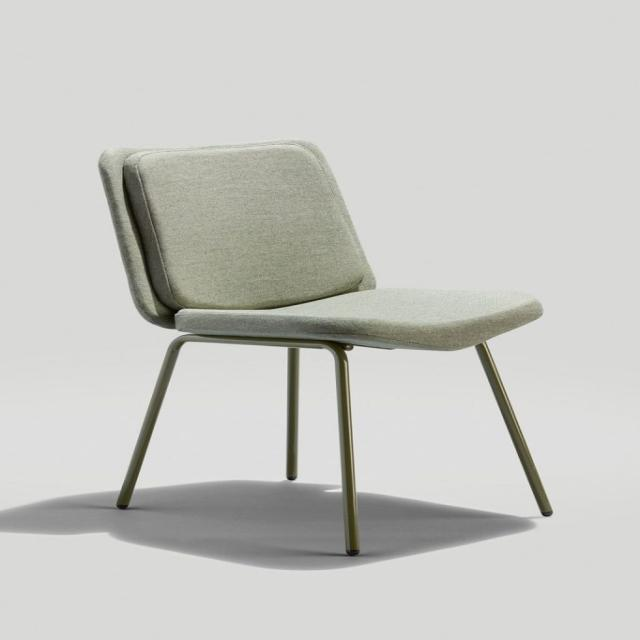obstacle: (86, 120, 585, 587)
